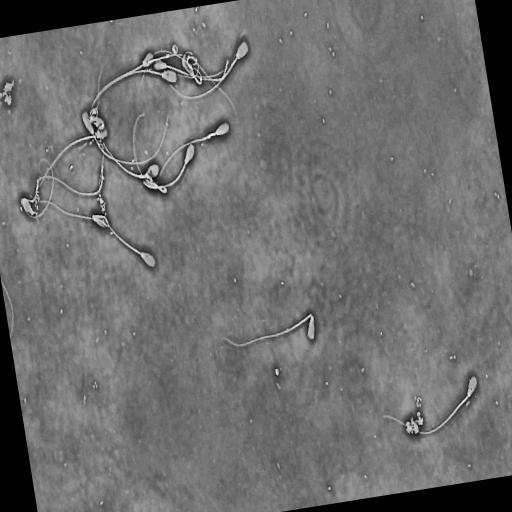coiled-tail: (39, 198, 108, 226)
dirt-particles: (403, 408, 425, 436), (0, 78, 14, 107)
folded-tail: (222, 313, 311, 346), (133, 113, 167, 194)
loose-head: (19, 194, 35, 217)
loose-tail: (33, 161, 104, 198)
normal: (378, 366, 482, 442), (97, 180, 161, 273), (166, 36, 252, 102), (155, 117, 233, 180), (213, 307, 318, 353), (81, 110, 168, 164), (96, 131, 161, 180), (131, 111, 168, 195), (93, 69, 177, 104), (141, 141, 197, 193), (38, 196, 111, 230)
